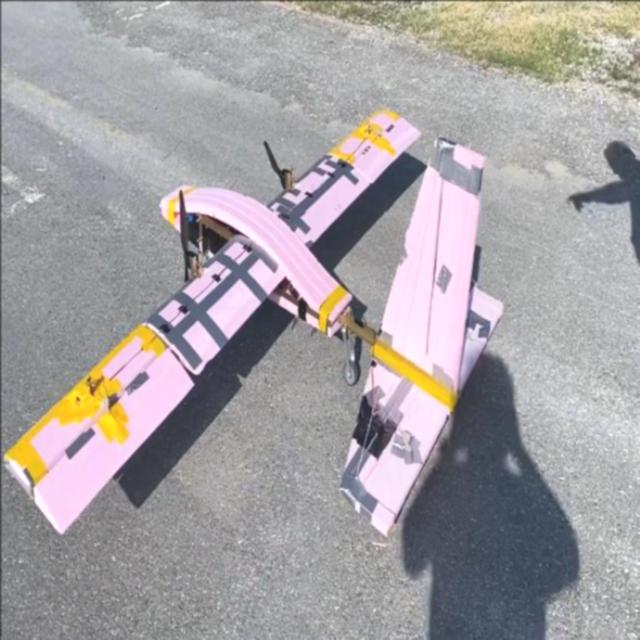plane: (0, 105, 503, 538)
